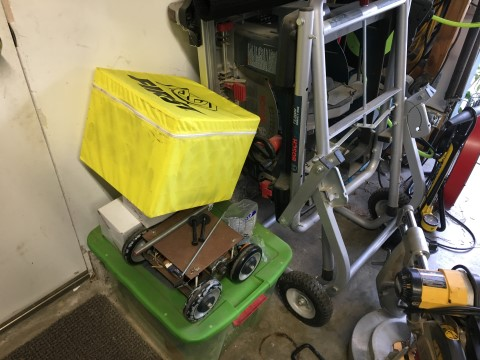cube: (80, 67, 261, 218)
